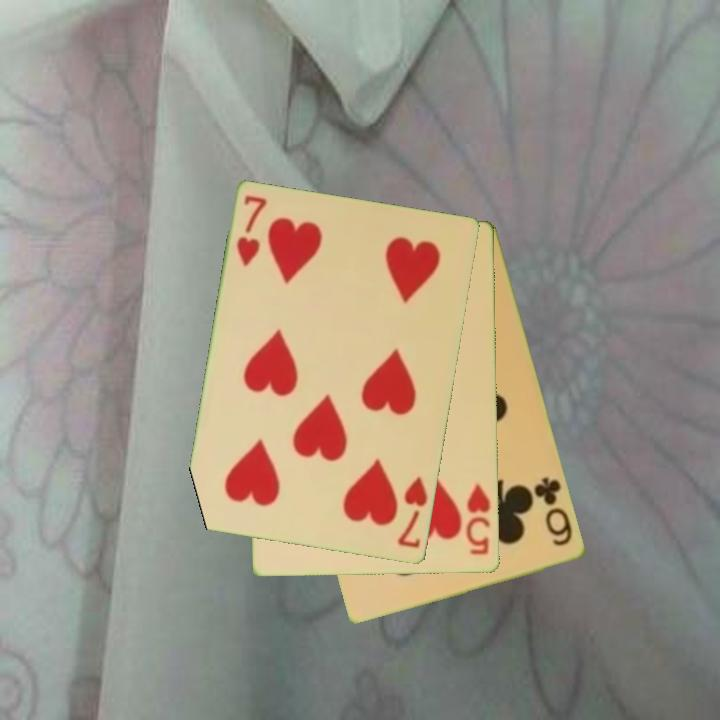5h: (463, 481, 494, 558)
6c: (530, 473, 576, 550)
7h: (233, 192, 271, 270), (394, 473, 431, 551)
